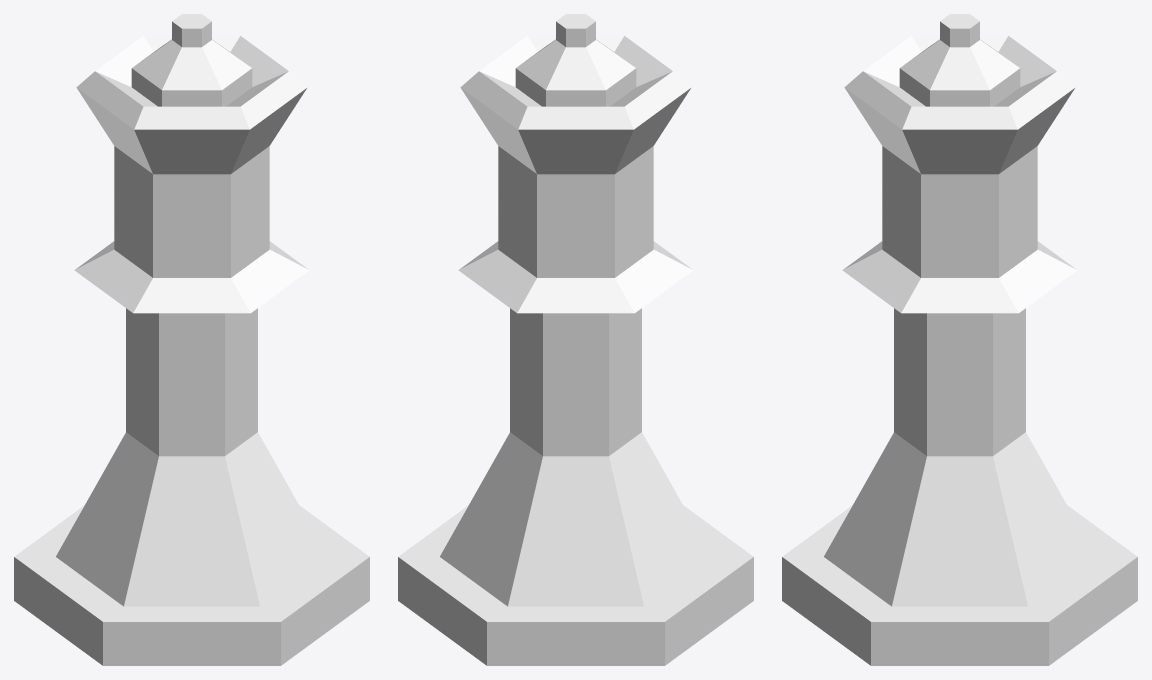
File: chesspiecequeen01.gltf
The picture shows the model from 3 angles, left to right: view 1: azimuth 30°, elevation 25°; view 2: azimuth 150°, elevation 25°; view 3: azimuth 270°, elevation 25°; orthographic projection.
Parts seen in each view (by area): view 1: Cylinder.001; view 2: Cylinder.001; view 3: Cylinder.001.
Part boxes in pixels (left/top/right/bottom): Cylinder.001: left=14, top=14, right=369, bottom=665; Cylinder.001: left=398, top=14, right=753, bottom=665; Cylinder.001: left=782, top=14, right=1137, bottom=665.
Bounding box in the file's own units: 0.0225 × 0.0467 × 0.026.
1 material, 1 textured.
